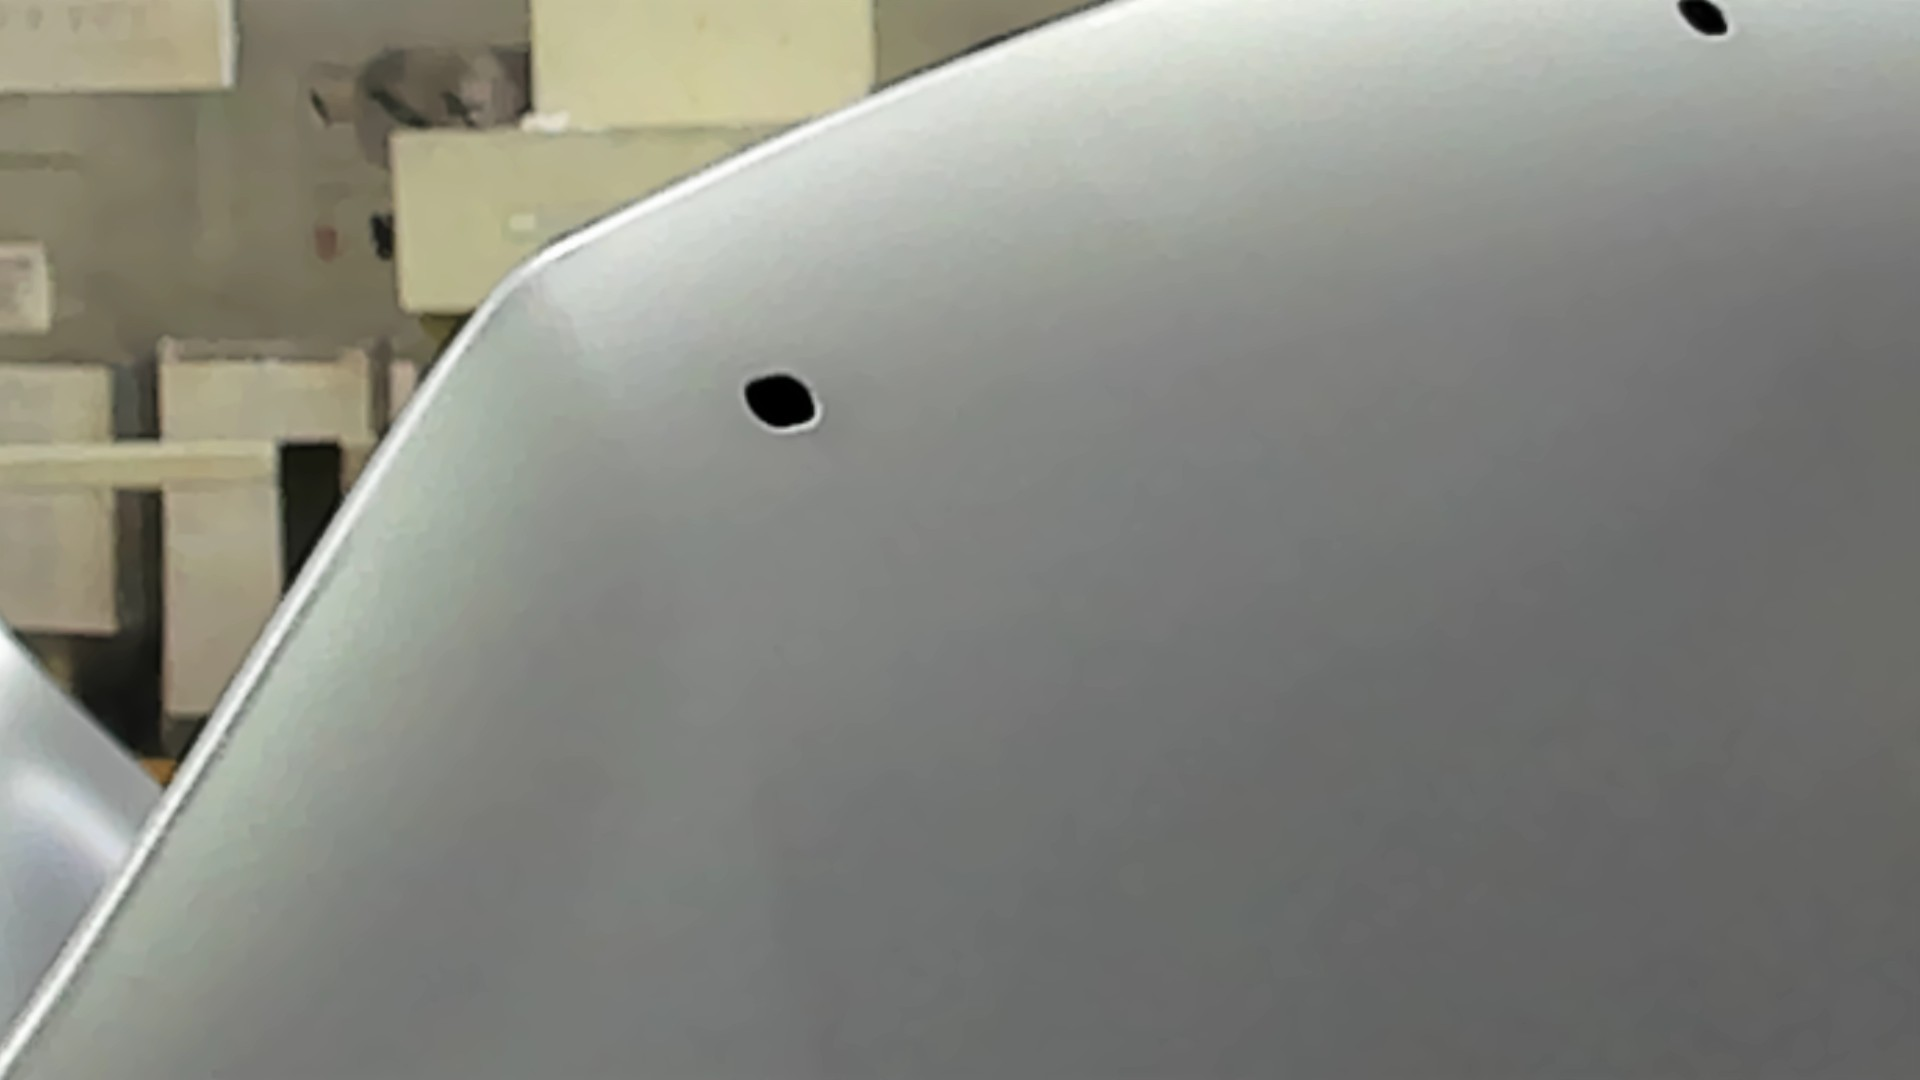amorfo: (736, 367, 829, 438), (1669, 1, 1733, 49)
